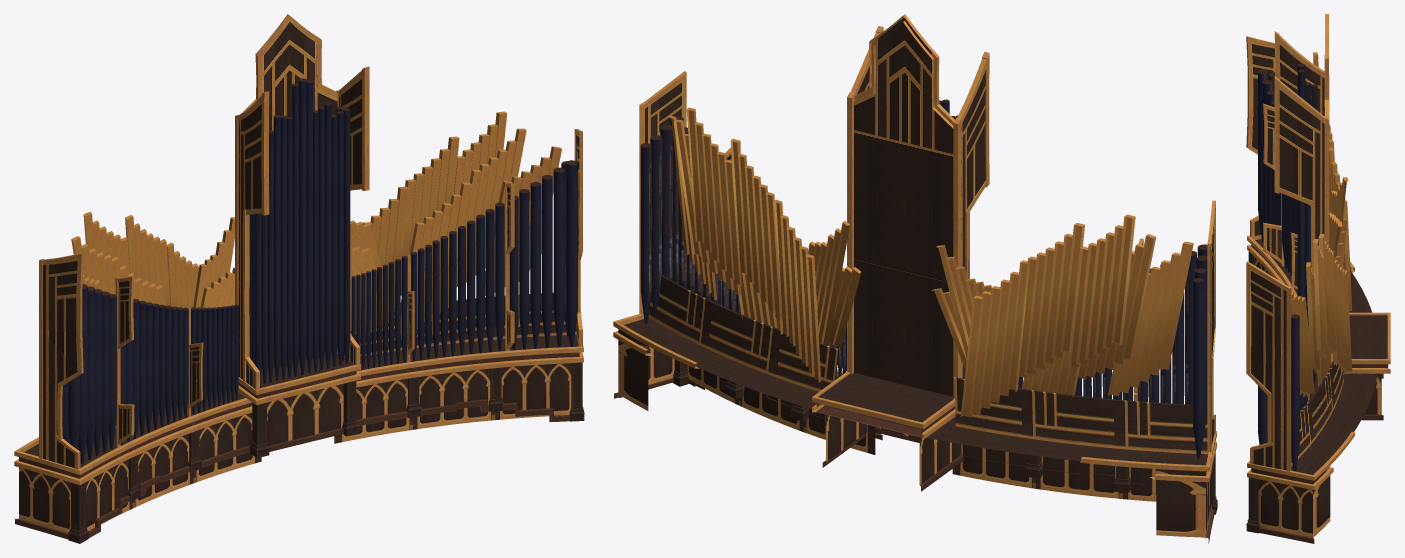
File: Indoor_MdProps_Church_Organ01_Vo_1523_0.fbx
3 renders of one model, left to right at view 1: azimuth 30°, elevation 25°; view 2: azimuth 150°, elevation 25°; view 3: azimuth 270°, elevation 25°, orthographic. The views are drawn at different scales.
Visible parts, largest first — view 1: Indoor_MdProps_Church_Organ01_Vo_1523_0; view 2: Indoor_MdProps_Church_Organ01_Vo_1523_0; view 3: Indoor_MdProps_Church_Organ01_Vo_1523_0.
Part boxes in pixels (left/top/right/bottom): Indoor_MdProps_Church_Organ01_Vo_1523_0: left=14, top=14, right=584, bottom=543; Indoor_MdProps_Church_Organ01_Vo_1523_0: left=613, top=14, right=1217, bottom=543; Indoor_MdProps_Church_Organ01_Vo_1523_0: left=1246, top=14, right=1390, bottom=543.
Size of the model in its own units: 14.5 by 10.73 by 3.49.
